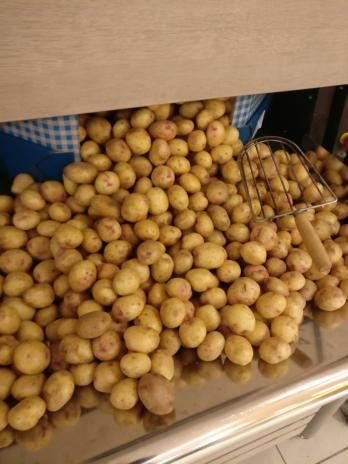Floury potato: (76, 112, 237, 356), (247, 130, 347, 362), (0, 167, 75, 428)
